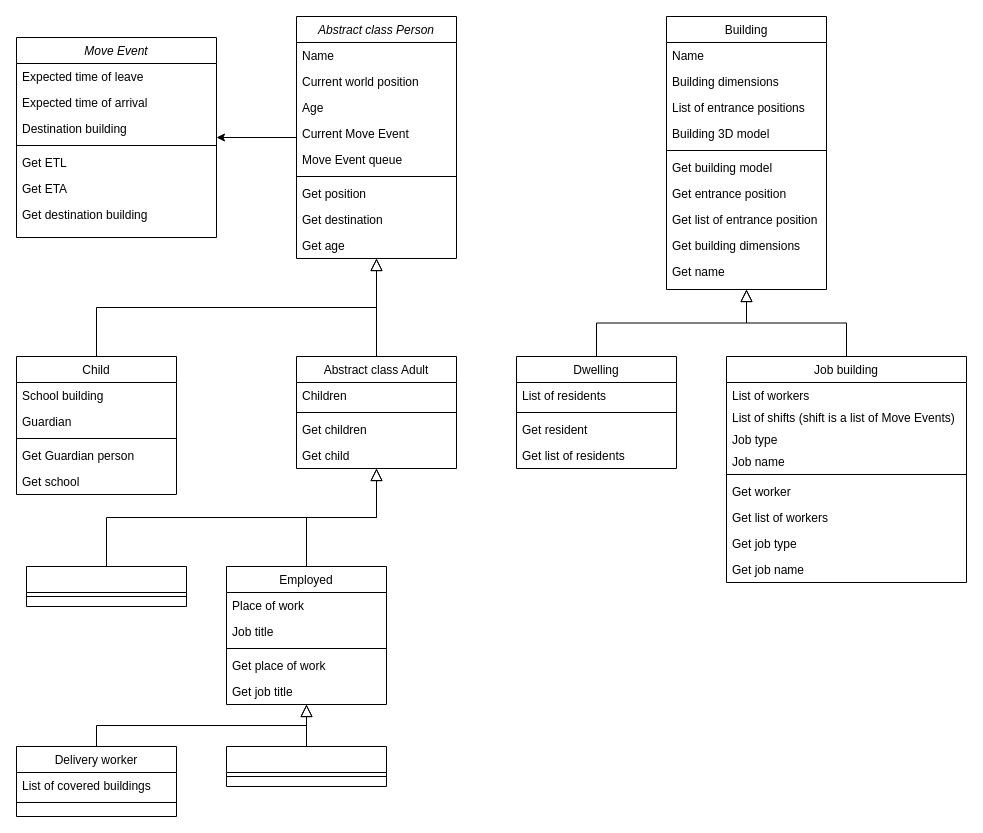
Image size: 983x833. Some labels were removed from this diagram. The centre of each missing label's shape, as x and y in pixels:
Stationary worker: (306,766)
Unemployed: (106,586)
